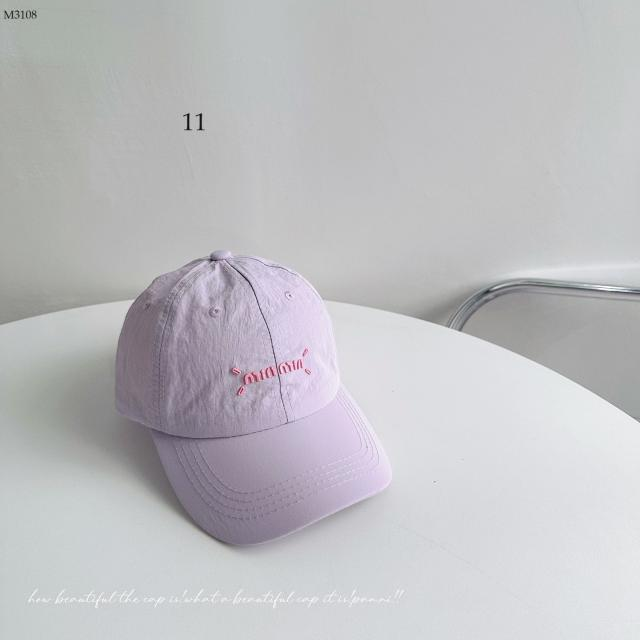no_helmet: (112, 245, 401, 552)
